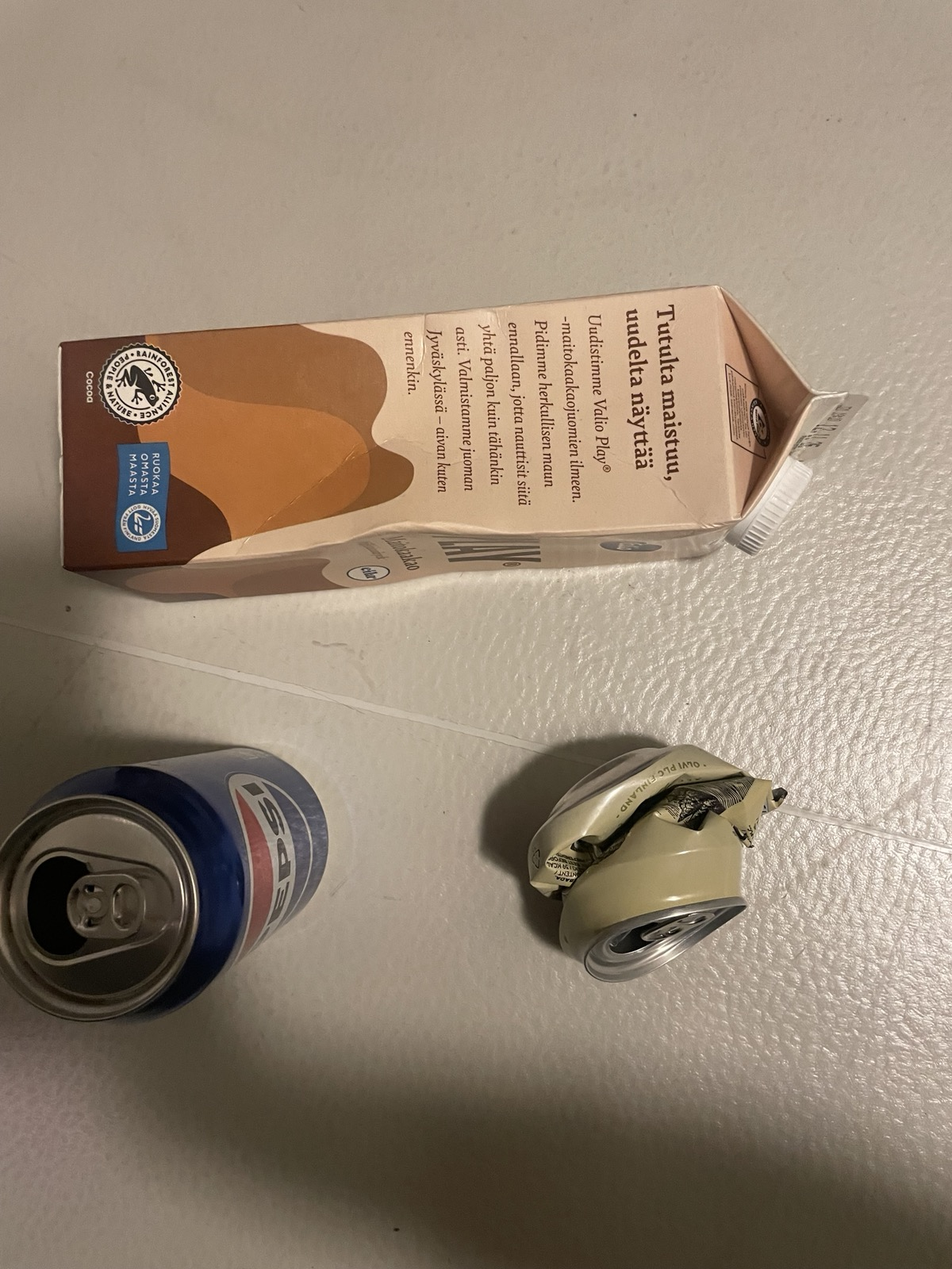Dryckeskartong: (39, 337, 867, 621)
pantburk: (2, 736, 335, 1026), (519, 736, 790, 988)
